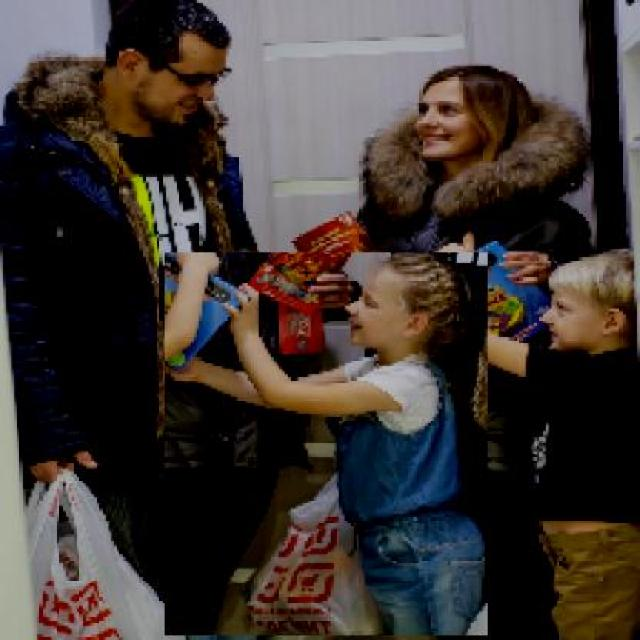child: (163, 252, 488, 637), (425, 227, 640, 638)
